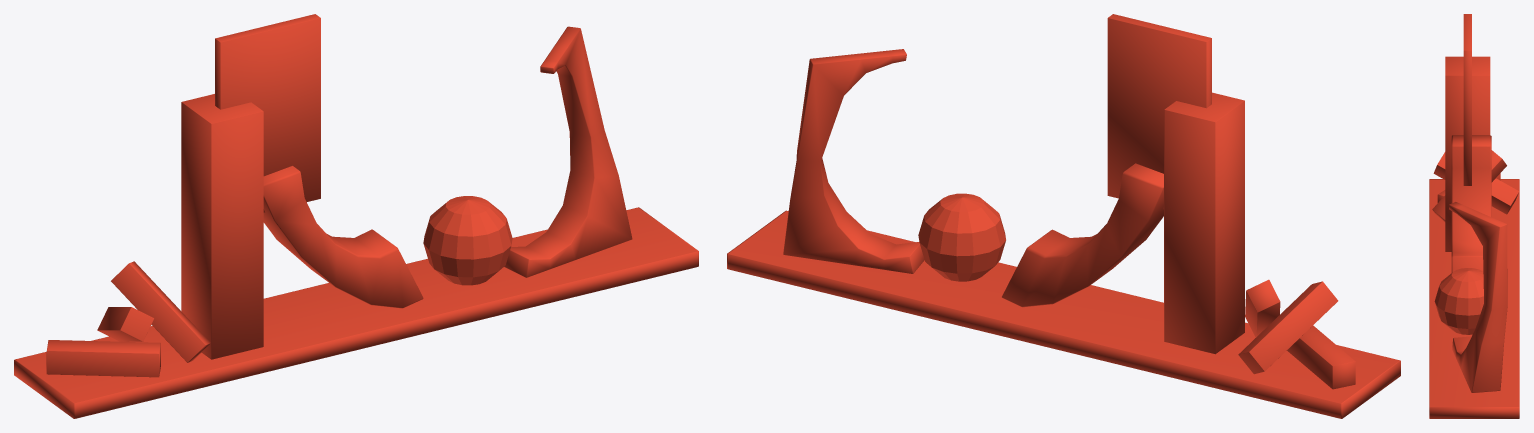
3 views of the same model, side by side, from view 1: azimuth 30°, elevation 25°; view 2: azimuth 150°, elevation 25°; view 3: azimuth 270°, elevation 25° (orthographic). The views are drawn at different scales.
Parts seen in each view (by area): view 1: Mashup_04; view 2: Mashup_04; view 3: Mashup_04.
Part boxes in pixels (x1,y1,x2,y2): Mashup_04: (14, 14, 698, 418); Mashup_04: (727, 14, 1400, 418); Mashup_04: (1429, 14, 1519, 418).
Bounding box in the file's own units: 593 × 289 × 98.91.
Materials: 1 (1 with a texture image).
